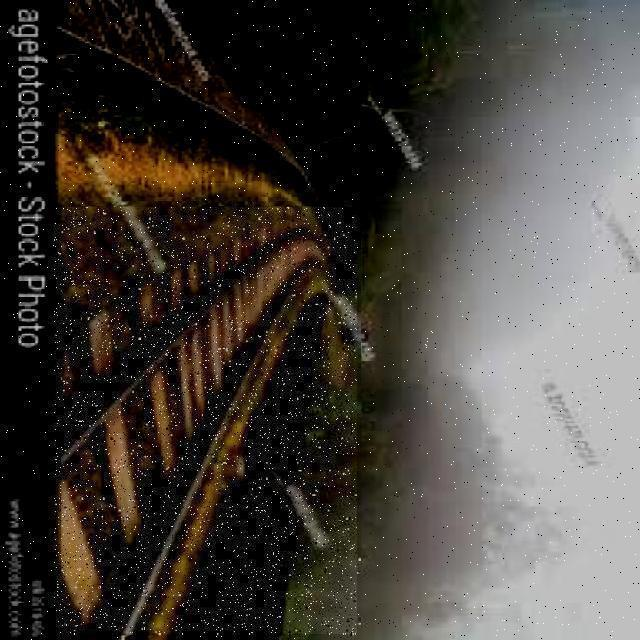rail: (55, 208, 358, 635)
